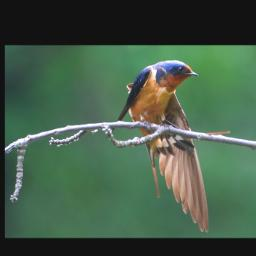Swallow: (110, 58, 212, 233)
